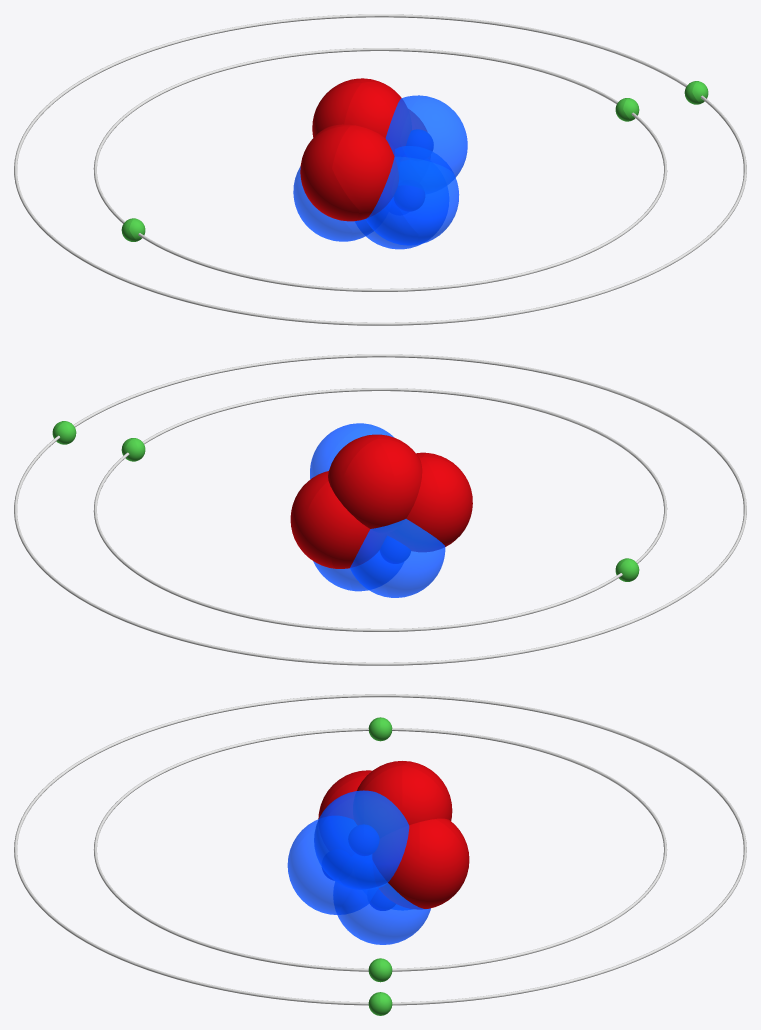
Rendered from element_003_lithium.glb.
The picture shows the model from 3 angles, top to bottom: view 1: azimuth 30°, elevation 25°; view 2: azimuth 150°, elevation 25°; view 3: azimuth 270°, elevation 25°; orthographic projection.
Parts seen in each view (by area): view 1: element_003_lithium_nucleus, lithium_orbital_1_6; view 2: element_003_lithium_nucleus, lithium_orbital_1_6; view 3: element_003_lithium_nucleus, lithium_orbital_1_6.
Boxes of the visible parts, <box> form: element_003_lithium_nucleus: <box>293,78,467,249</box>; lithium_orbital_1_6: <box>14,14,746,325</box>; element_003_lithium_nucleus: <box>290,423,472,597</box>; lithium_orbital_1_6: <box>14,354,746,665</box>; element_003_lithium_nucleus: <box>287,761,469,944</box>; lithium_orbital_1_6: <box>14,694,746,1015</box>.
Size of what is drawn, in the model's own units: 0.6209 by 0.1488 by 0.6123.
